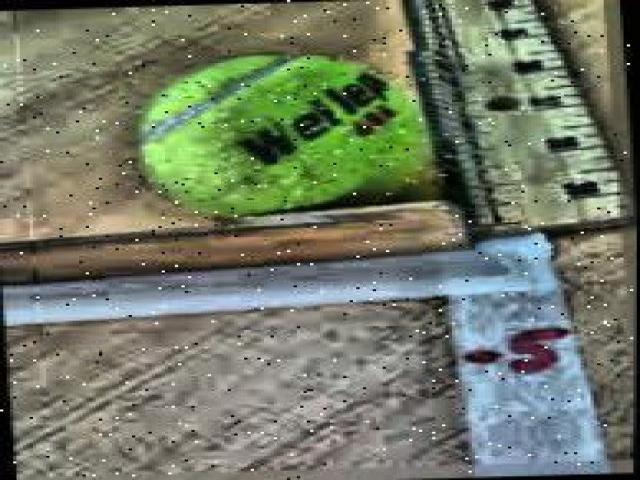tennis-ball: (136, 54, 432, 216)
